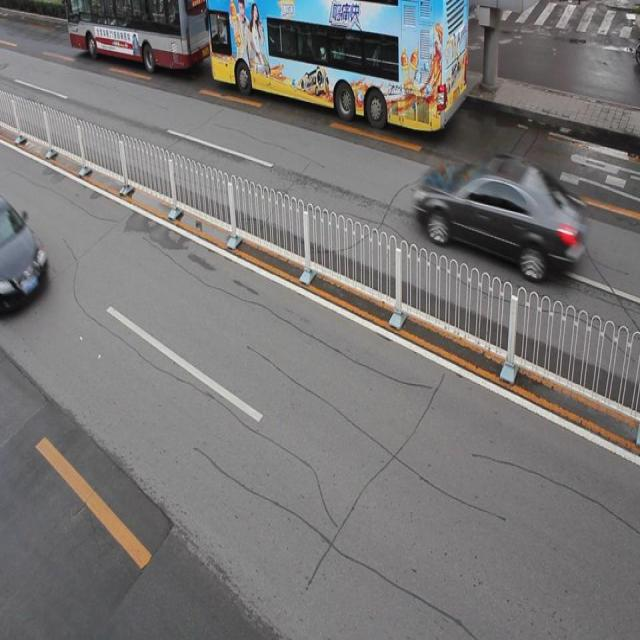car: (417, 150, 584, 279), (1, 200, 47, 314)
van: (207, 1, 466, 134), (65, 1, 210, 70)
